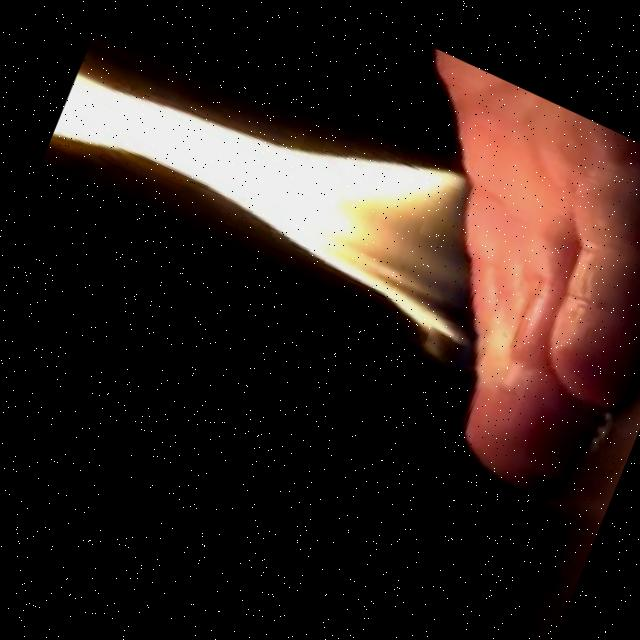Fire: (40, 2, 536, 358)
